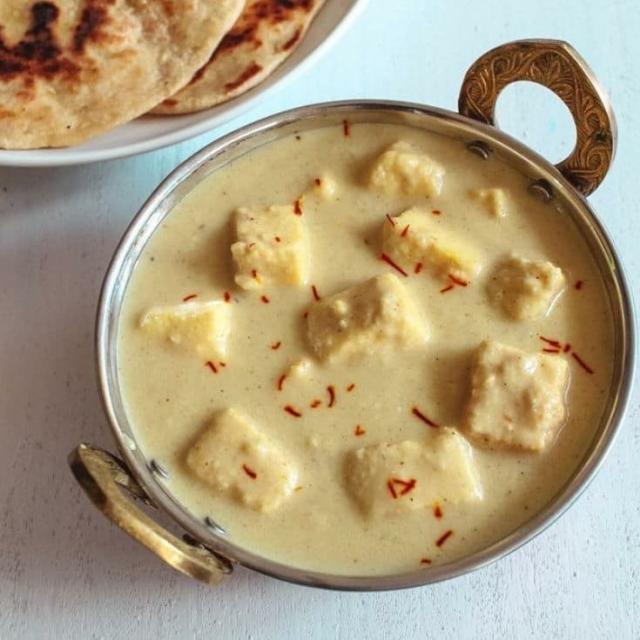ShahiPaneer: (120, 123, 616, 574)
